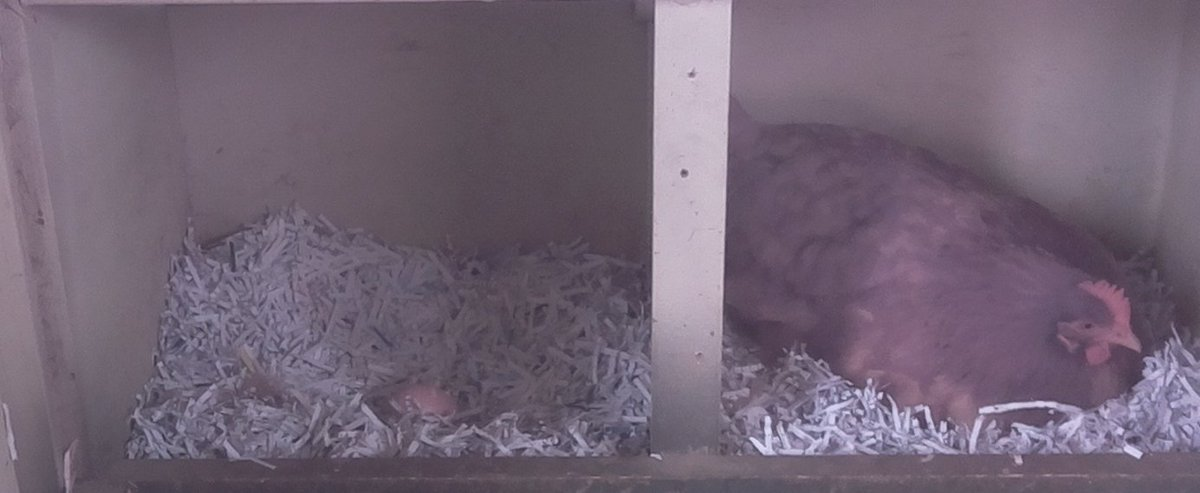egg: (382, 384, 466, 430)
hen: (729, 100, 1155, 444)
